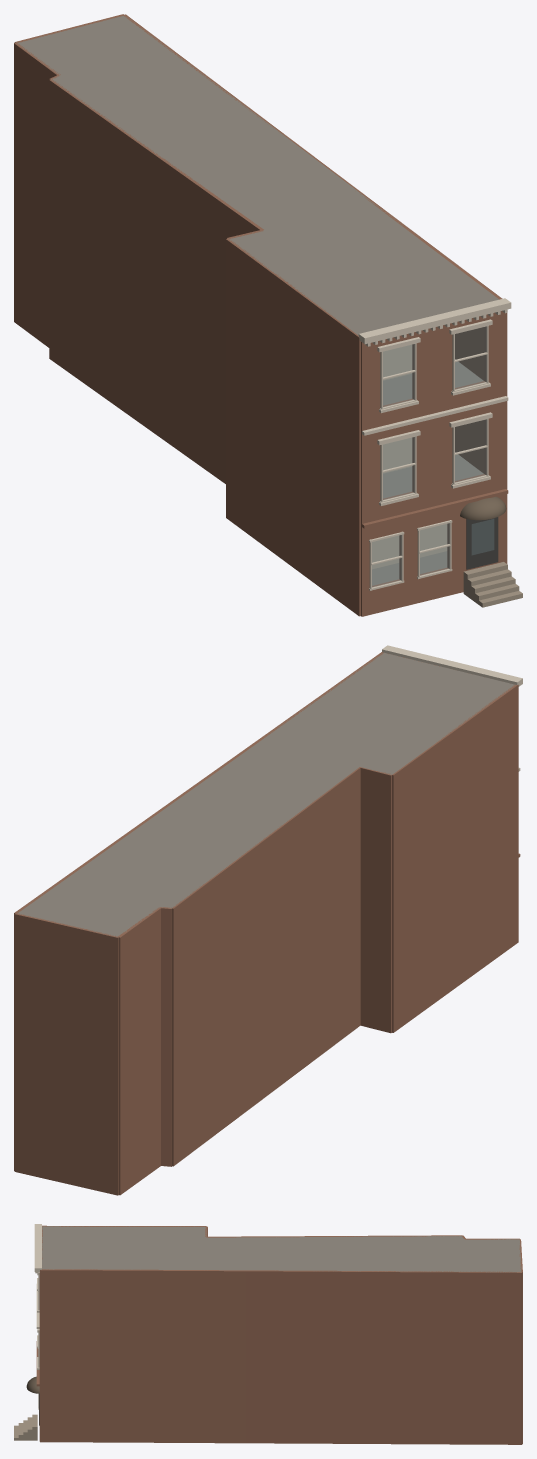
The picture shows the model from 3 angles, top to bottom: view 1: azimuth 30°, elevation 25°; view 2: azimuth 150°, elevation 25°; view 3: azimuth 270°, elevation 25°; orthographic projection. The views are drawn at different scales.
Parts seen in each view (by area): view 1: Shell, Roof, Facade floor 0, Facade floor 1, Facade floor 2, Floor 0, Cornice, Floor 1, Floor 2; view 2: Shell, Roof, Cornice; view 3: Shell, Roof, Facade floor 0, Cornice.
Part boxes in pixels (x1,y1,x2,y2): Shell: [14, 14, 507, 616]; Roof: [16, 16, 498, 335]; Facade floor 0: [361, 489, 522, 616]; Facade floor 1: [361, 396, 508, 523]; Facade floor 2: [361, 311, 505, 430]; Floor 0: [372, 524, 447, 585]; Cornice: [358, 298, 511, 346]; Floor 1: [383, 437, 483, 498]; Floor 2: [383, 344, 483, 405]; Shell: [14, 652, 518, 1195]; Roof: [17, 652, 515, 936]; Cornice: [382, 645, 522, 686]; Shell: [40, 1225, 522, 1444]; Roof: [42, 1226, 521, 1272]; Facade floor 0: [14, 1341, 39, 1441]; Cornice: [34, 1224, 41, 1273].
Bounding box in the file's own units: 6.28 × 10.83 × 28.72.
